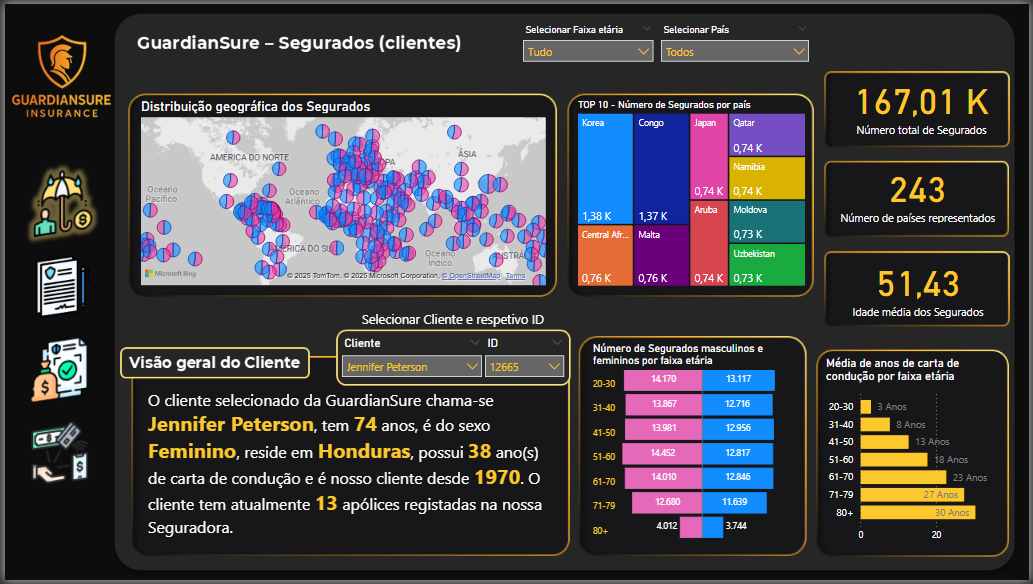

The dashboard page shown, as its layout file describes it:
{"tool":"powerbi","page":{"name":"Segurados","canvas":[1280,720],"ordinal":1},"visuals":[{"type":"treemap","title":"TOP 10 - Número de Segurados por país","fields":{"Group":["dim_PolicyHolderDetails.Country"],"Values":["Medidas.X_Número Total de Segurados"]},"box":[711.4,118.6,294.3,238.6],"z":0},{"type":"card","fields":{"Values":["Medidas.X_Número Total de Tomadores"]},"box":[1054.4,82.2,181.1,86.7],"z":1000},{"type":"clusteredBarChart","title":"Média de anos de carta de condução por faixa etária","fields":{"Category":["dim_PolicyHolderDetails.AgeGroup"],"Y":["Medidas.X_MediaAnosCarta"]},"box":[1021.7,440.8,235,240],"z":2000},{"type":"map","title":"Distribuição geográfica  dos Segurados","fields":{"Category":["dim_PolicyHolderDetails.Country"],"Series":["dim_PolicyHolderDetails.Gender"],"Size":["Medidas.X_Número Total de Segurados"]},"box":[165.6,117.8,515.6,238.9],"z":3000},{"type":"slicer","fields":{"Values":["dim_PolicyHolderDetails.Todos os Paises","dim_PolicyHolderDetails.Country"]},"box":[810.1,20.6,205,57],"z":4000},{"type":"slicer","fields":{"Values":["dim_PolicyHolderDetails.AgeGroup"]},"box":[638.1,20.6,183,57],"z":5000},{"type":"TornadoChart1452517688218","title":"Número de Segurados masculinos e femininos por faixa etária","fields":{"Category":["dim_PolicyHolderDetails.AgeGroup"],"Values":["Medidas.X_Número Total de Segurados"],"Series":["dim_PolicyHolderDetails.Gender"]},"box":[729.9,422.6,261.1,269.6],"z":6000},{"type":"actionButton","box":[22.5,300,100,100.8],"z":7000},{"type":"actionButton","box":[22.5,400.8,100,107.5],"z":8000},{"type":"actionButton","box":[22.5,508.3,100,107.5],"z":9000},{"type":"enlightenDataStoryDDFB78A6143E42CFAFBC50CCF18D978D","fields":{"measure":["Min(dim_PolicyHolderDetails.PolicyHolderName)","Medidas.X_Idade Cliente Selecionado","Medidas.X_Género Mais Frequente","Medidas.X_País Mais Frequente","Medidas.X_MediaAnosCarta","Medidas.X_Ano Primeira Apólice","Medidas.X_Nº Apólices Cliente"]},"box":[173.8,475,526.2,208.8],"z":10000},{"type":"card","fields":{"Values":["Medidas.Nº Países Clientes"]},"box":[1031,193.1,219.8,86.2],"z":11000},{"type":"card","fields":{"Values":["Medidas.X_Média de Idades"]},"box":[1031,304.8,219.8,95.9],"z":12000},{"type":"slicer","fields":{"Values":["dim_PolicyHolderDetails.PolicyHolderID"]},"box":[590,410.9,119.1,62.7],"z":13000},{"type":"slicer","fields":{"Values":["dim_PolicyHolderDetails.PolicyHolderName"]},"box":[411.8,410.9,195.5,62.7],"z":14000},{"type":"textbox","box":[440.7,377.9,245.7,32.9],"z":15000},{"type":"actionButton","box":[37.5,38.6,66.1,71.6],"z":16000}]}

Visuals, with their boxes in screenshot pixels (x1, y1, x2, y2), scaled from the page's 1280x720 canvas onto the 1033x584 screenshot:
"TOP 10 - Número de Segurados por país" treemap: box(574, 96, 812, 290)
card - Medidas.X_Número Total de Tomadores: box(851, 67, 997, 137)
"Média de anos de carta de condução por faixa etária" clusteredBarChart: box(825, 358, 1014, 552)
"Distribuição geográfica  dos Segurados" map: box(134, 96, 550, 289)
slicer - dim_PolicyHolderDetails.Todos os Paises x dim_PolicyHolderDetails.Country: box(654, 17, 819, 63)
slicer - dim_PolicyHolderDetails.AgeGroup: box(515, 17, 663, 63)
"Número de Segurados masculinos e femininos por faixa etária" TornadoChart1452517688218: box(589, 343, 800, 561)
actionButton: box(18, 243, 99, 325)
actionButton: box(18, 325, 99, 412)
actionButton: box(18, 412, 99, 499)
enlightenDataStoryDDFB78A6143E42CFAFBC50CCF18D978D - Min(dim_PolicyHolderDetails.PolicyHolderName) x Medidas.X_Idade Cliente Selecionado: box(140, 385, 565, 555)
card - Medidas.Nº Países Clientes: box(832, 157, 1009, 227)
card - Medidas.X_Média de Idades: box(832, 247, 1009, 325)
slicer - dim_PolicyHolderDetails.PolicyHolderID: box(476, 333, 572, 384)
slicer - dim_PolicyHolderDetails.PolicyHolderName: box(332, 333, 490, 384)
textbox: box(356, 307, 554, 333)
actionButton: box(30, 31, 84, 89)
